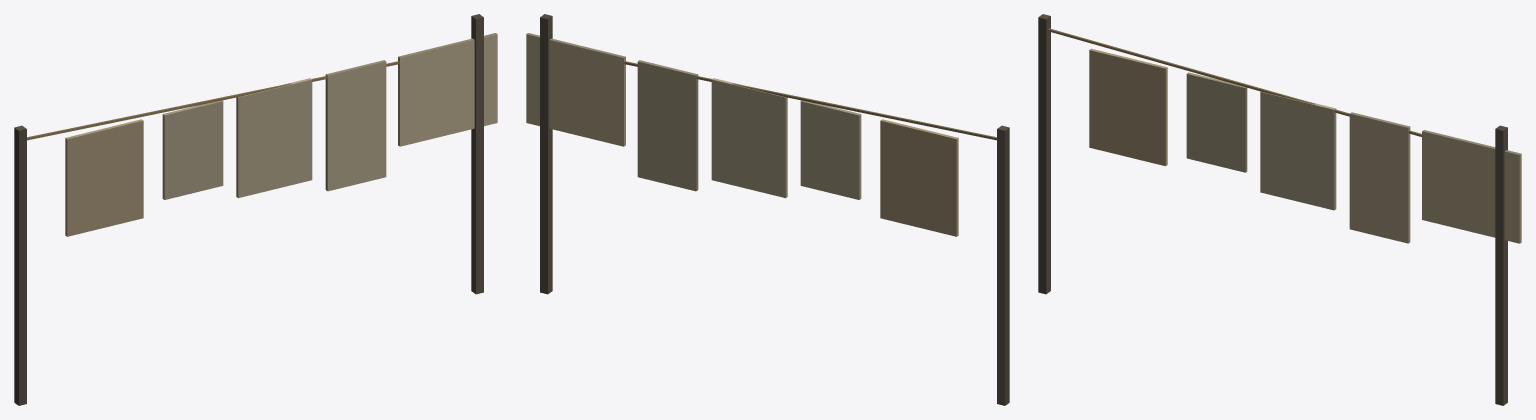
File: walk_prop_laundry.glb
3 views of the same model, side by side, from view 1: azimuth 30°, elevation 25°; view 2: azimuth 150°, elevation 25°; view 3: azimuth 330°, elevation 25° (orthographic).
Parts seen in each view (by area): view 1: walk_prop_laundry; view 2: walk_prop_laundry; view 3: walk_prop_laundry.
Part boxes in pixels (x1,y1,x2,y2): walk_prop_laundry: (14,14,497,405); walk_prop_laundry: (526,14,1009,405); walk_prop_laundry: (1038,14,1521,405).
Bounding box in the file's own units: 4.2 × 2.3 × 0.0707.
Materials: 1 (1 with a texture image).
